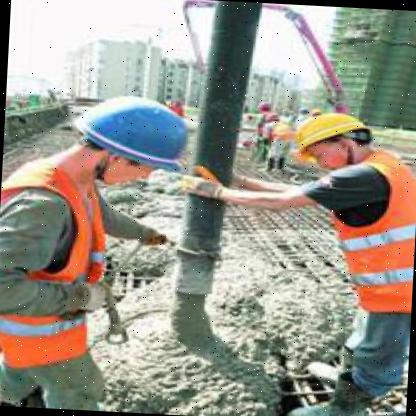bota: (286, 366, 376, 416)
capacete: (68, 90, 189, 188), (292, 110, 374, 176)
